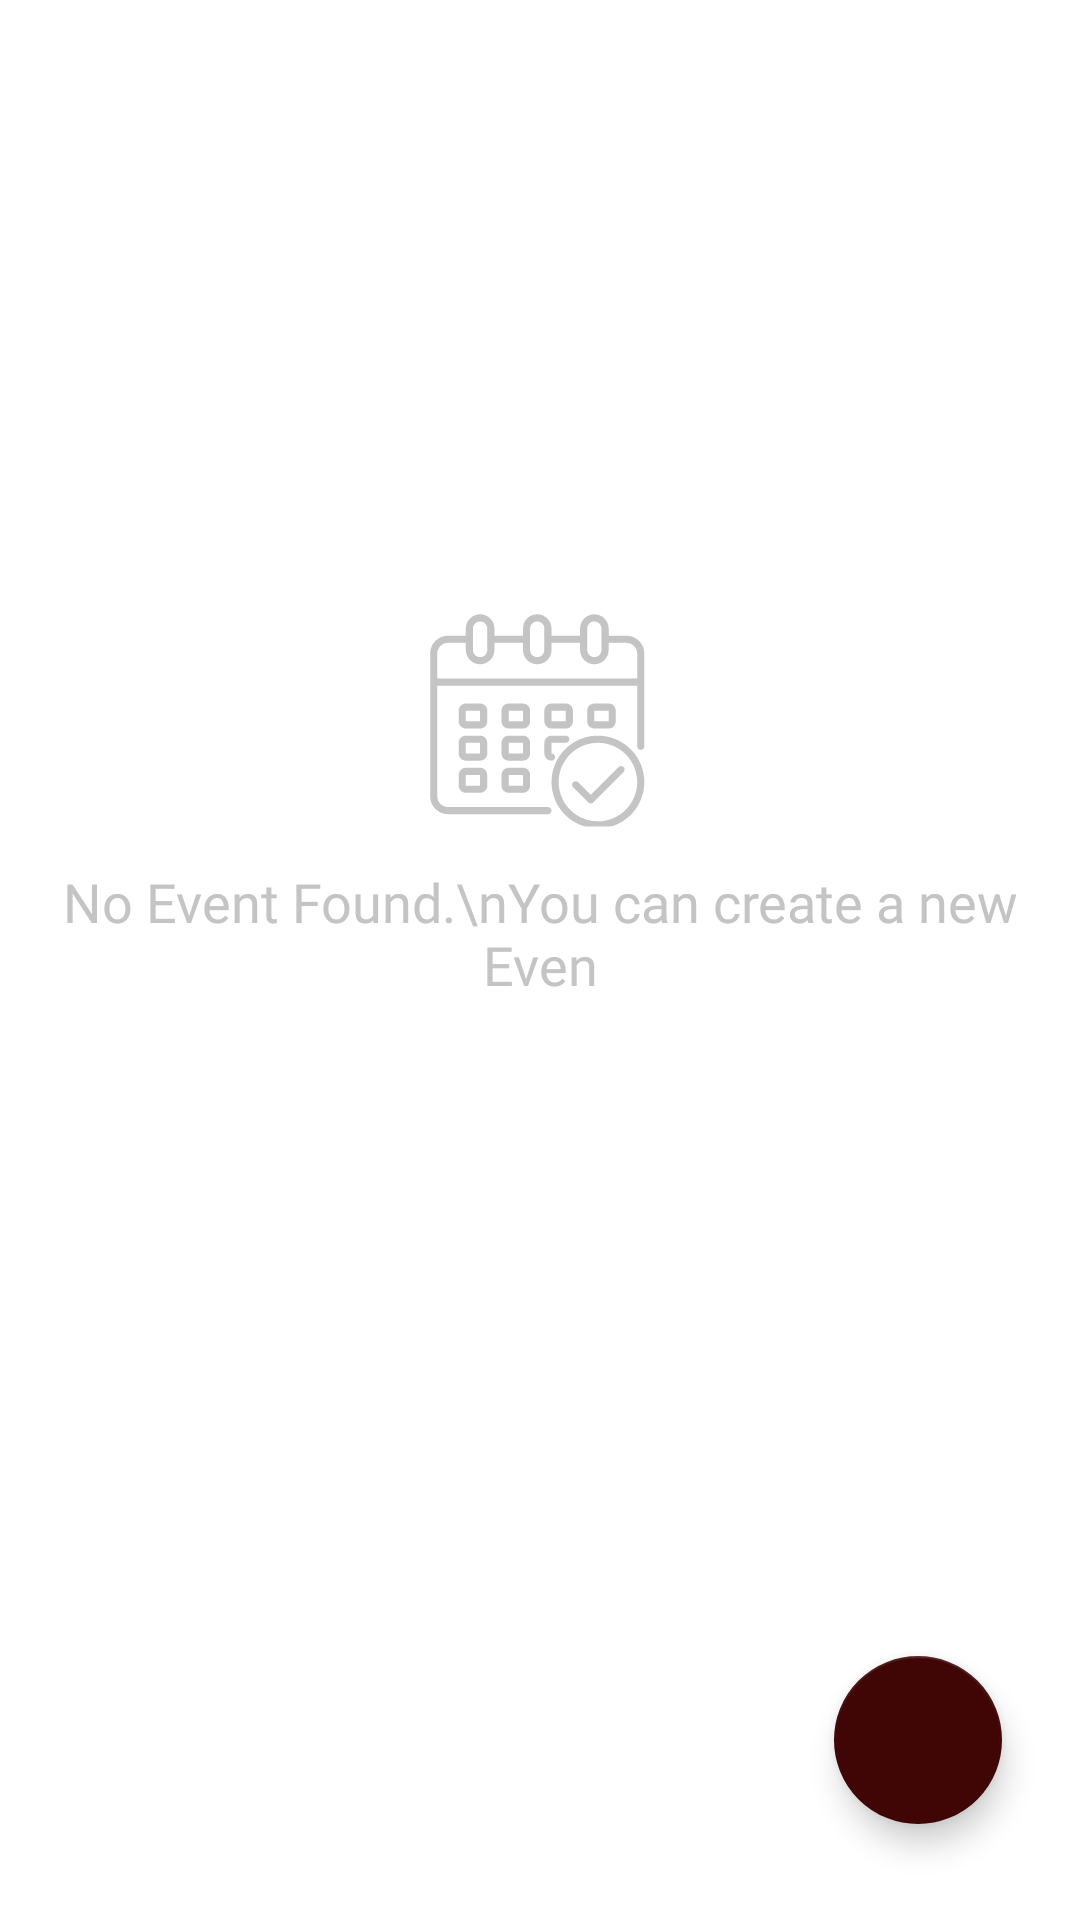

Named icons in this screenshot (1080px x 1920px) and their centers, point (x, y):
calendar: point (537, 720)
